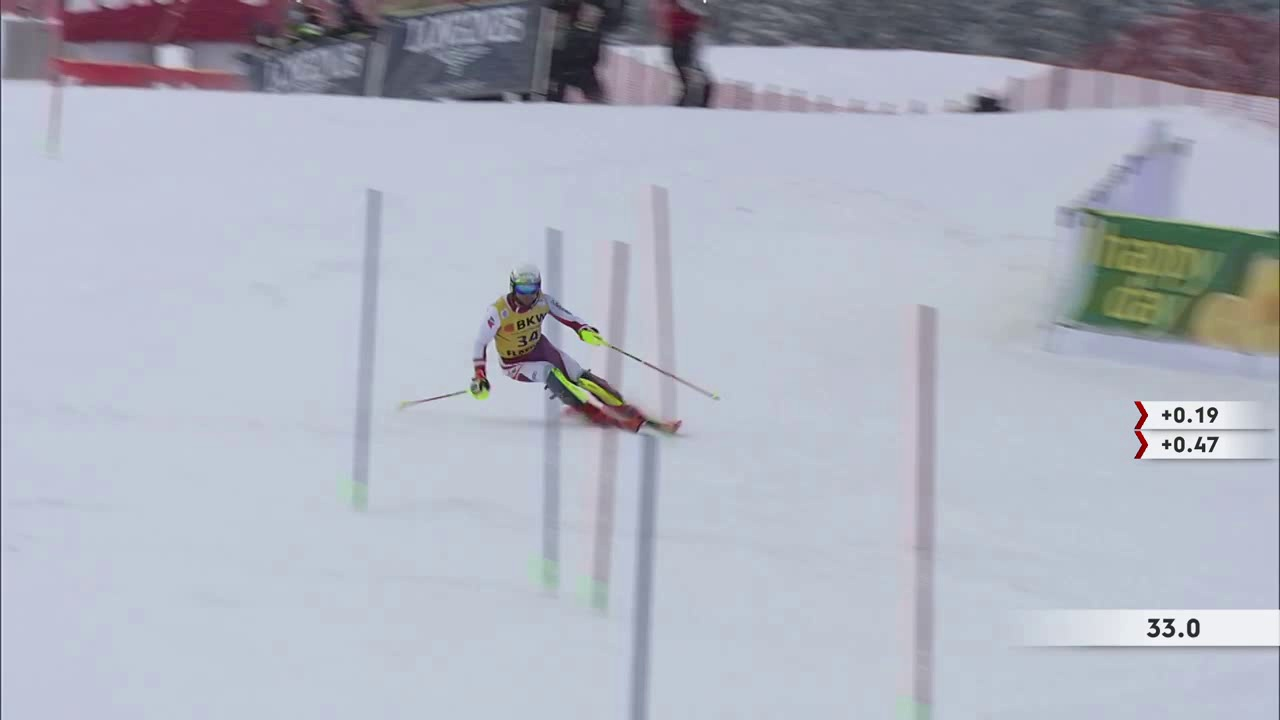longines: (399, 5, 532, 95)
